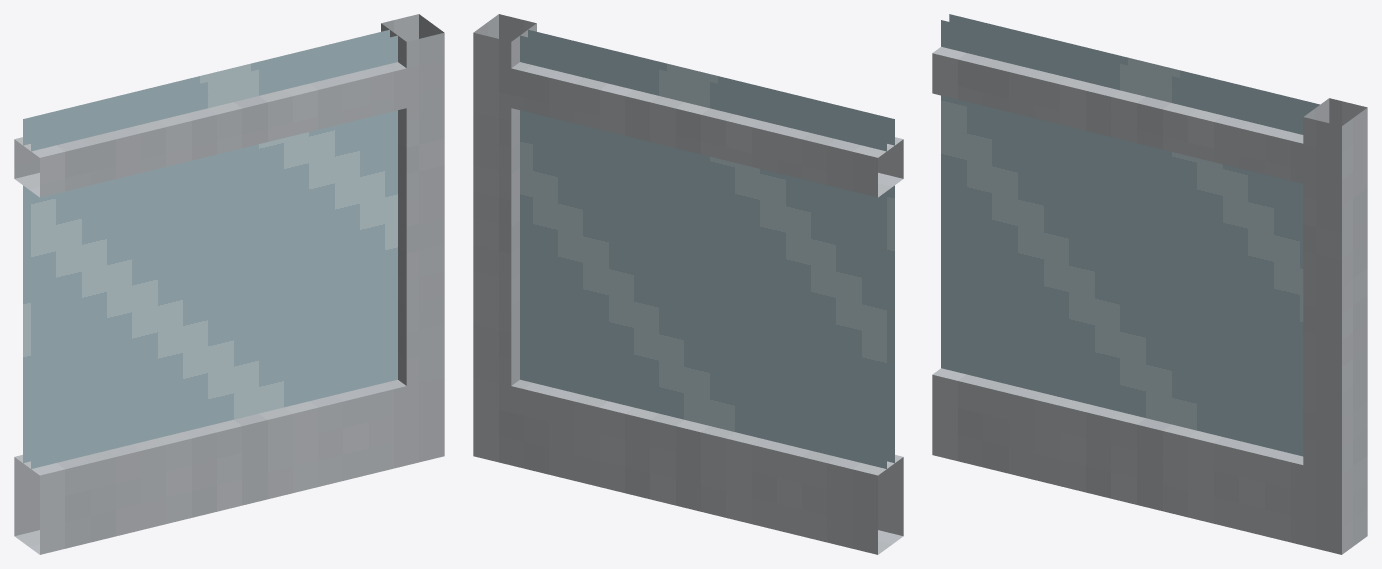
File: auto_door_wide_slider_clear_c1_lower_left_open.obj
3 renders of one model, left to right at view 1: azimuth 30°, elevation 25°; view 2: azimuth 150°, elevation 25°; view 3: azimuth 330°, elevation 25°, orthographic.
Parts seen in each view (by area): view 1: auto_door_wide_slider_clear_c1_lower_left_open; view 2: auto_door_wide_slider_clear_c1_lower_left_open; view 3: auto_door_wide_slider_clear_c1_lower_left_open.
Part boxes in pixels (x1,y1,x2,y2): auto_door_wide_slider_clear_c1_lower_left_open: (14,14,444,554); auto_door_wide_slider_clear_c1_lower_left_open: (473,14,903,554); auto_door_wide_slider_clear_c1_lower_left_open: (932,14,1367,554).
Bounding box in the file's own units: 1 × 1 × 0.1094.
